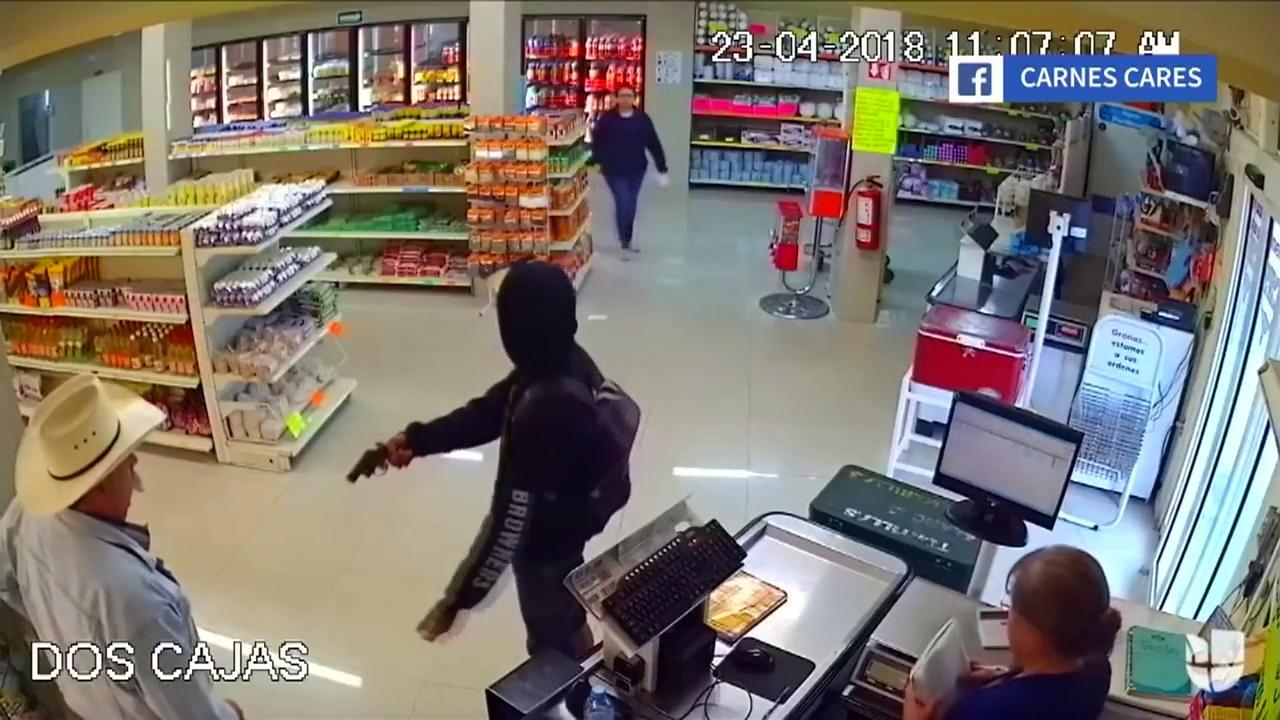Guns perspective: (339, 419, 397, 506)
